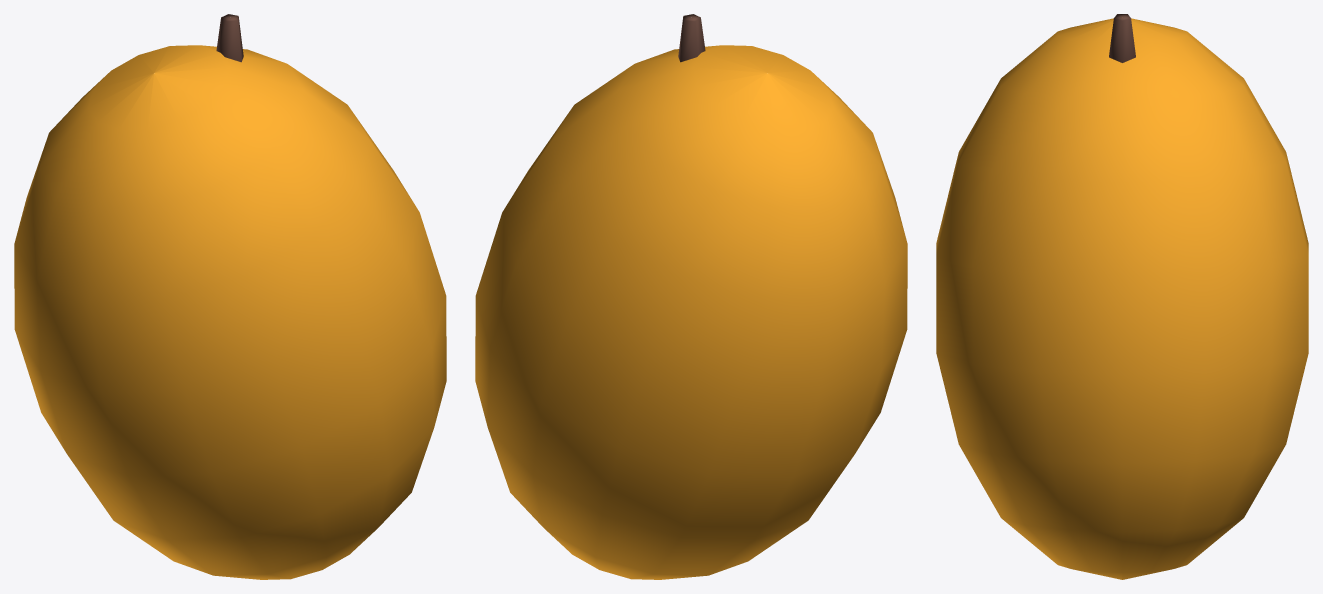
The model's file is fruit-mango-gold.glb.
The picture shows the model from 3 angles, left to right: view 1: azimuth 30°, elevation 25°; view 2: azimuth 150°, elevation 25°; view 3: azimuth 270°, elevation 25°; orthographic projection. The views are drawn at different scales.
Parts seen in each view (by area): view 1: fruit-mango; view 2: fruit-mango; view 3: fruit-mango.
Part boxes in pixels (x1,y1,x2,y2): fruit-mango: (14,14,446,579); fruit-mango: (475,14,907,579); fruit-mango: (936,14,1308,579).
Size of the model in its own units: 0.3957 by 0.5444 by 0.3456.
